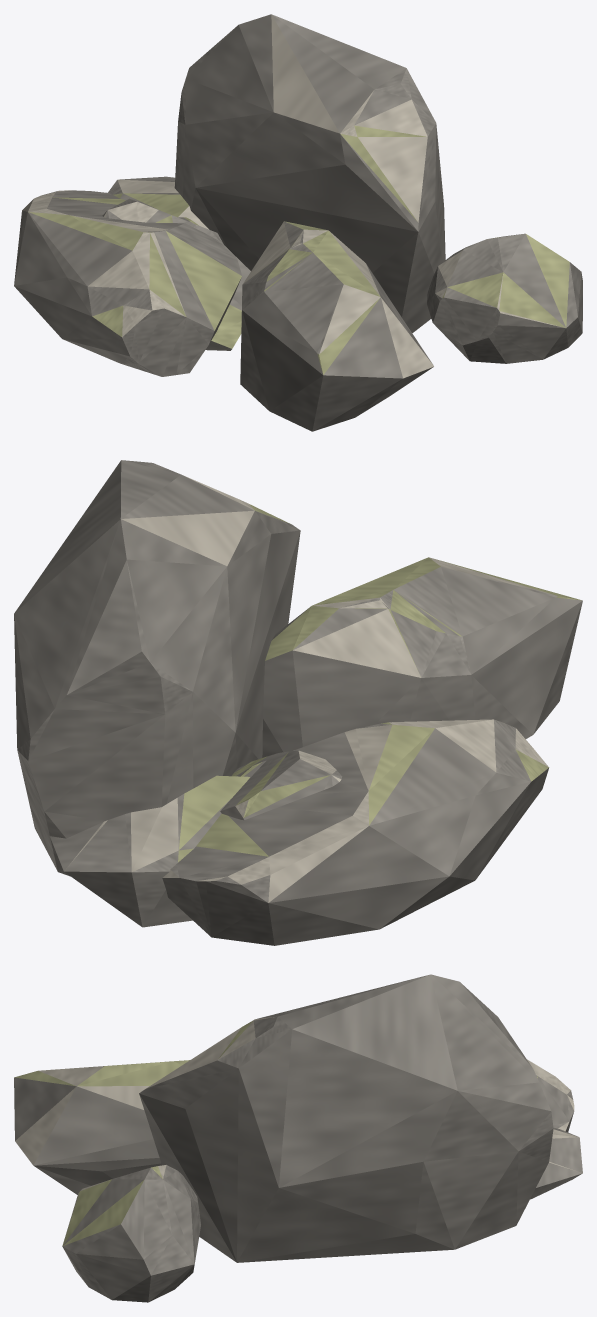
File: rock_cluster_01.fbx
3 views of the same model, one above another, from view 1: azimuth 30°, elevation 25°; view 2: azimuth 150°, elevation 25°; view 3: azimuth 270°, elevation 25° (orthographic). The views are drawn at different scales.
Parts seen in each view (by area): view 1: rock_cluster_01; view 2: rock_cluster_01; view 3: rock_cluster_01.
Boxes of the visible parts, box(x1,y1,x2,y2) form: rock_cluster_01: box(14, 14, 582, 431); rock_cluster_01: box(14, 460, 582, 945); rock_cluster_01: box(14, 974, 582, 1302).
Bounding box in the file's own units: 3.3 × 1.78 × 3.7.
